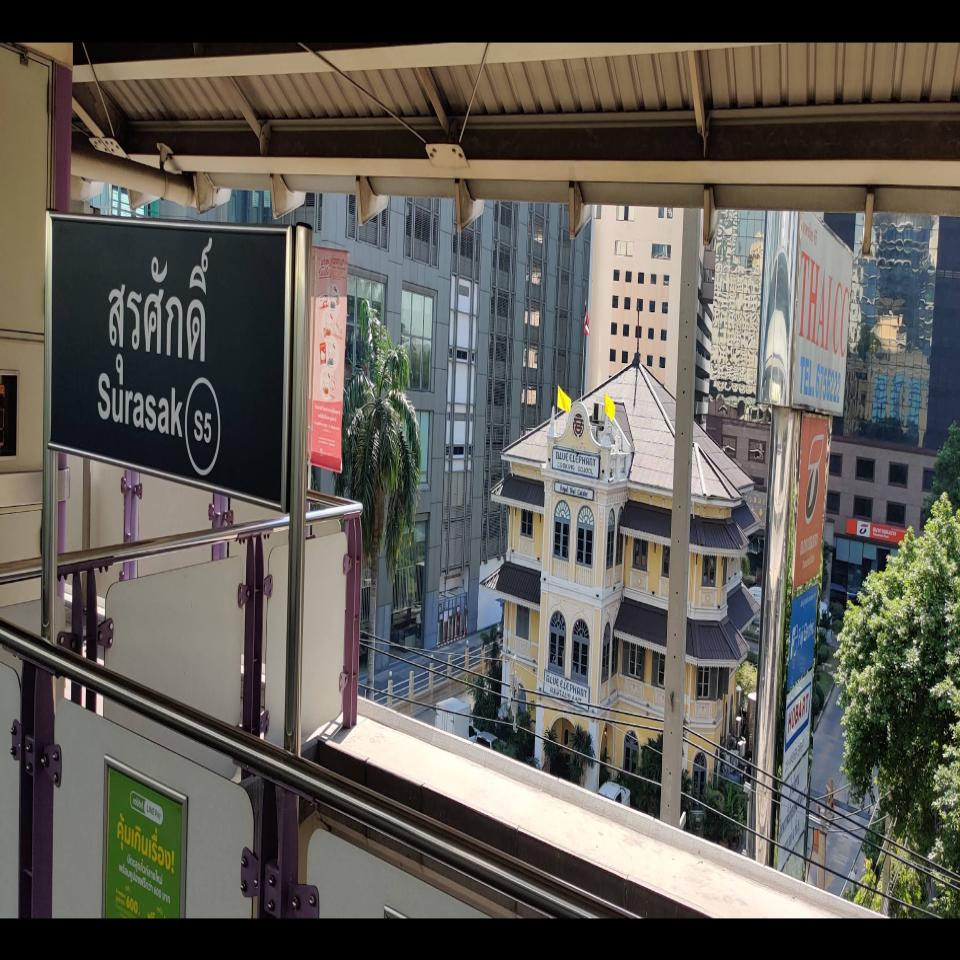signage: (47, 210, 294, 511)
